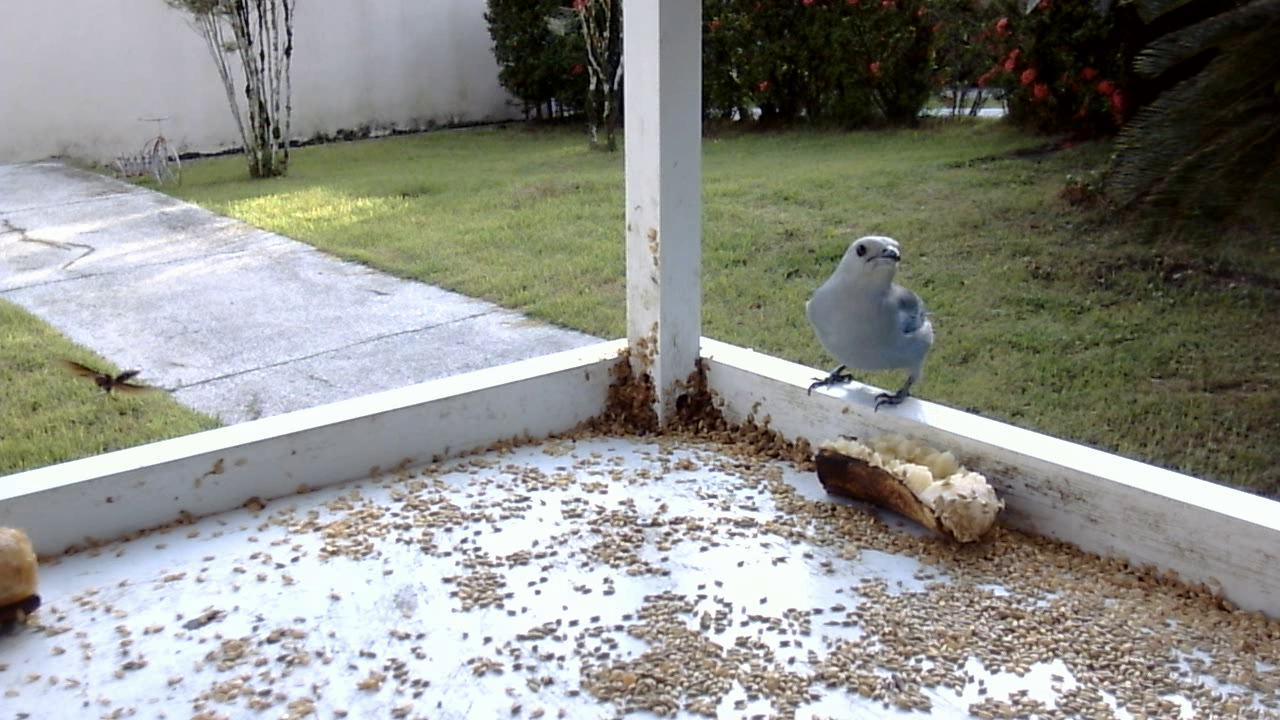sanhaco_da_amazonia: (802, 231, 939, 419)
